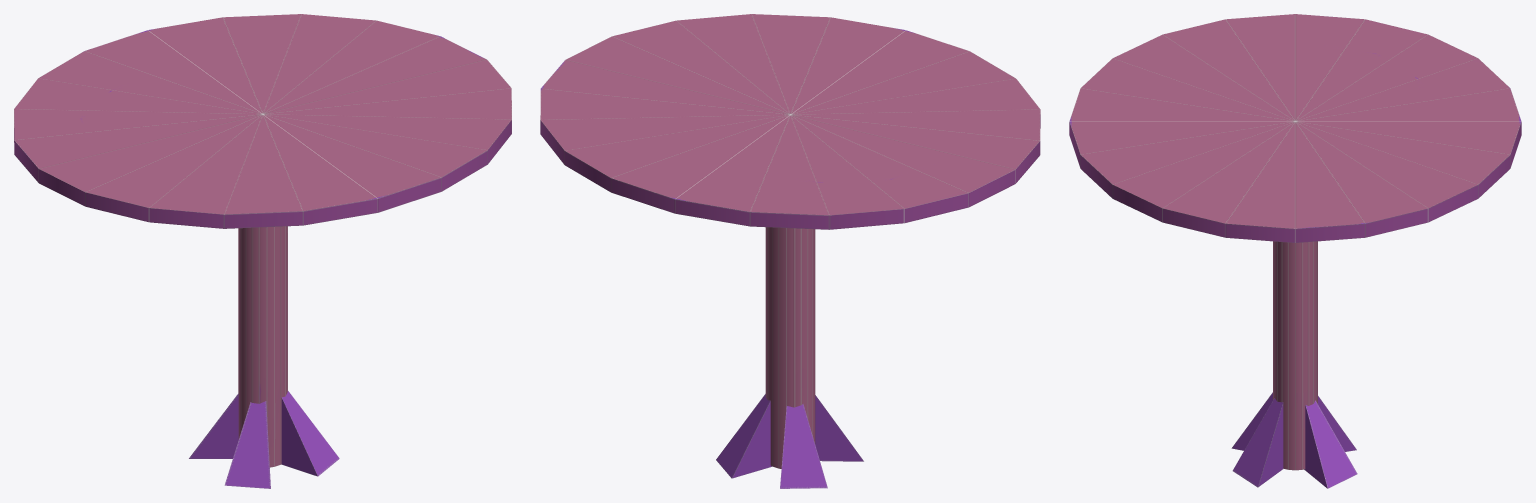
File: END_TABLE.fbx
3 renders of one model, left to right at view 1: azimuth 30°, elevation 25°; view 2: azimuth 150°, elevation 25°; view 3: azimuth 270°, elevation 25°, orthographic. The views are drawn at different scales.
Visible parts, largest first — view 1: table_small_2nd_pass; view 2: table_small_2nd_pass; view 3: table_small_2nd_pass.
Boxes of the visible parts, bbox=[...] form: table_small_2nd_pass: bbox=[14, 14, 511, 488]; table_small_2nd_pass: bbox=[540, 14, 1040, 488]; table_small_2nd_pass: bbox=[1069, 14, 1521, 488].
Size of the model in its own units: 162 by 119 by 144.
